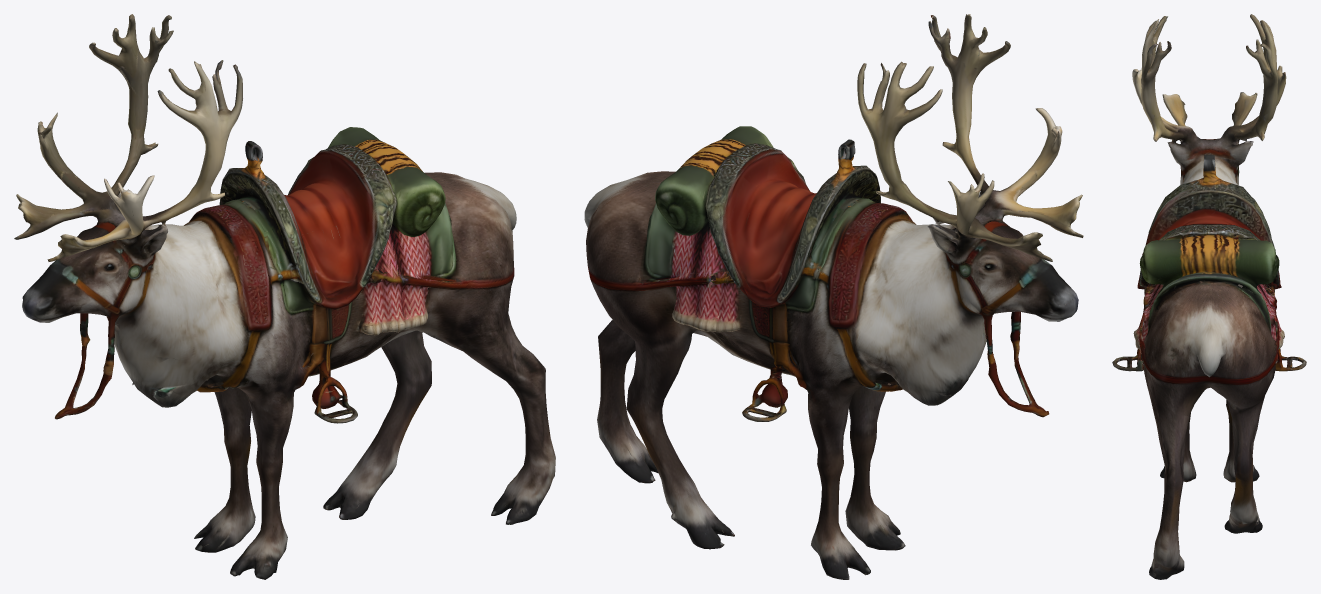
File: Meshy_AI_Reindeer_Royalty_0102105038_texture.fbx
3 views of the same model, side by side, from view 1: azimuth 30°, elevation 25°; view 2: azimuth 150°, elevation 25°; view 3: azimuth 270°, elevation 25° (orthographic). The views are drawn at different scales.
Parts seen in each view (by area): view 1: Mesh0; view 2: Mesh0; view 3: Mesh0.
Boxes of the visible parts, <box> form: Mesh0: <box>14,14,555,579</box>; Mesh0: <box>584,14,1083,579</box>; Mesh0: <box>1112,14,1306,579</box>.
Bounding box in the file's own units: 187 × 191 × 78.38.
Materials: 1 (1 with a texture image).
